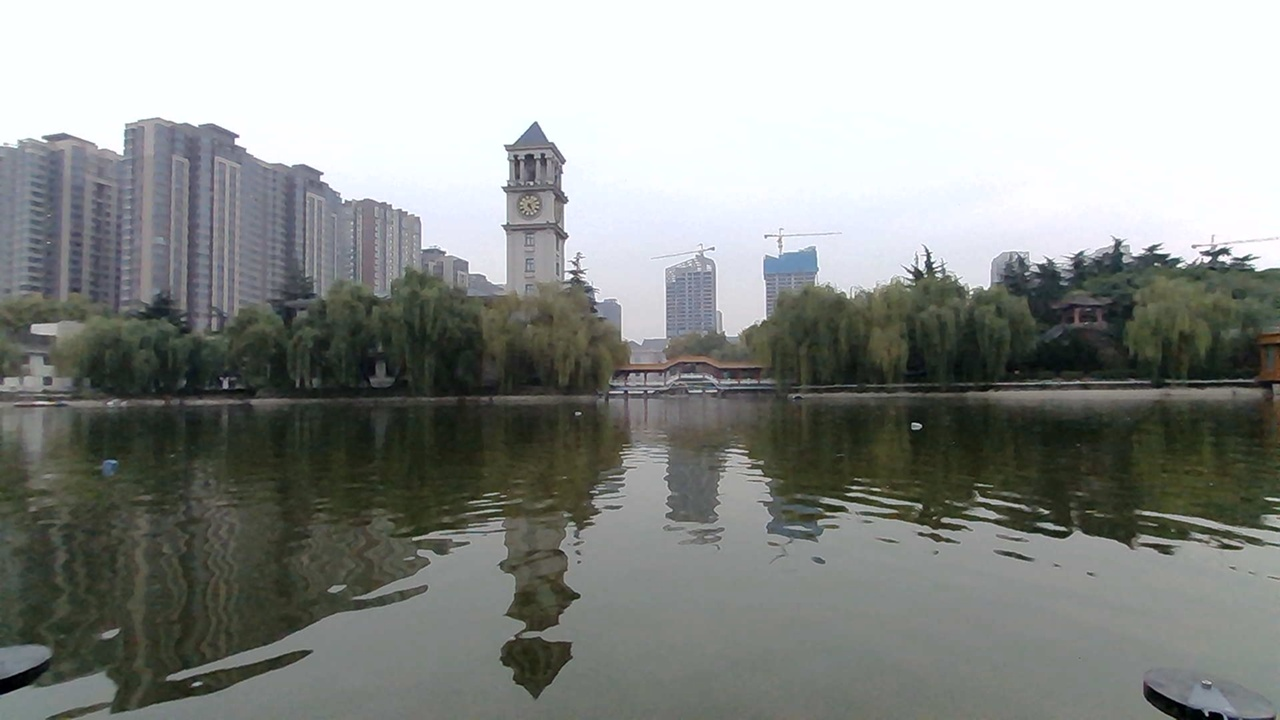bottle: (94, 453, 131, 481), (905, 411, 937, 440)
